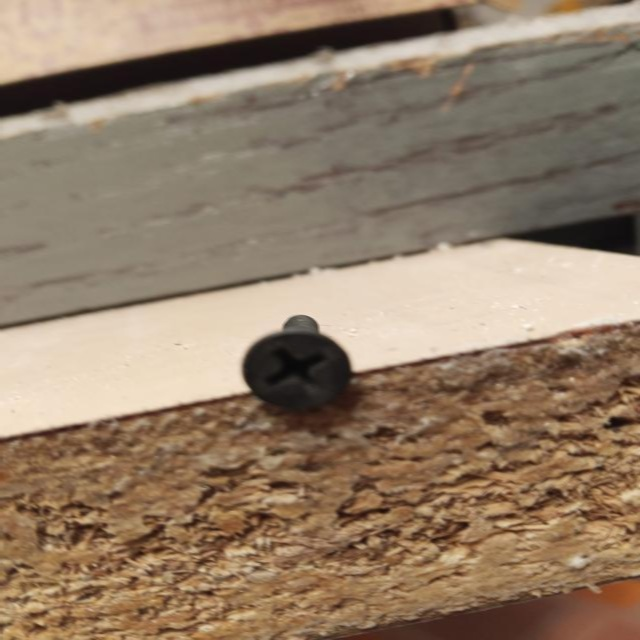phillips: (241, 330, 351, 411)
